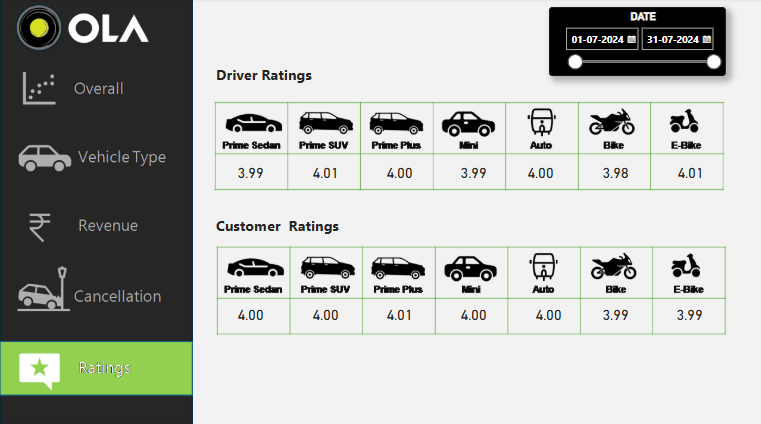

The page's visual inventory and layout, read from the dashboard file:
{"tool":"powerbi","page":{"name":"Ratings","canvas":[1280,720],"ordinal":4},"visuals":[{"type":"actionButton","box":[0,221.8,325.4,93.6],"z":0},{"type":"actionButton","box":[0,339.8,325.4,89.3],"z":1000},{"type":"actionButton","box":[0,447.8,325.4,93.6],"z":2000},{"type":"actionButton","box":[0,576,325.4,93.6],"z":3000},{"type":"actionButton","box":[0,108,325.4,90.7],"z":4000},{"type":"card","fields":{"Values":["Avg(July.Driver_Ratings)"]},"box":[364.5,268.8,112.5,47],"z":5000},{"type":"card","fields":{"Values":["Avg(July.Driver_Ratings)"]},"box":[490.5,268.8,112.5,47],"z":5001},{"type":"card","fields":{"Values":["Avg(July.Driver_Ratings)"]},"box":[614.8,268.8,112.5,47],"z":5002},{"type":"card","fields":{"Values":["Avg(July.Driver_Ratings)"]},"box":[739.1,268.8,112.5,47],"z":5003},{"type":"card","fields":{"Values":["Avg(July.Driver_Ratings)"]},"box":[851.7,268.8,112.5,47],"z":5004},{"type":"card","fields":{"Values":["Avg(July.Driver_Ratings)"]},"box":[977.6,268.8,112.5,47],"z":5005},{"type":"card","fields":{"Values":["Avg(July.Driver_Ratings)"]},"box":[1103.6,268.8,112.5,47],"z":5006},{"type":"card","fields":{"Values":["Avg(July.Customer_Rating)"]},"box":[364.5,507.3,112.5,47],"z":5007},{"type":"card","fields":{"Values":["Avg(July.Customer_Rating)"]},"box":[490.5,507.3,112.5,47],"z":5008},{"type":"card","fields":{"Values":["Avg(July.Customer_Rating)"]},"box":[614.8,507.3,112.5,47],"z":5009},{"type":"card","fields":{"Values":["Avg(July.Customer_Rating)"]},"box":[739.1,507.3,112.5,47],"z":5010},{"type":"card","fields":{"Values":["Avg(July.Customer_Rating)"]},"box":[865.1,507.3,112.5,47],"z":5011},{"type":"card","fields":{"Values":["Avg(July.Customer_Rating)"]},"box":[977.6,507.3,112.5,47],"z":5012},{"type":"card","fields":{"Values":["Avg(July.Customer_Rating)"]},"box":[1101.9,507.3,112.5,47],"z":5013},{"type":"textbox","box":[357.8,107.5,238.5,45.4],"z":5014},{"type":"textbox","box":[357.8,361.2,238.5,45.4],"z":5015},{"type":"slicer","title":"DATE","fields":{"Values":["July.Date"]},"box":[922.2,15.1,297.3,115.9],"z":5016}]}

Visuals, with their boxes on the page's 1280x720 design canvas (x1, y1, x2, y2). These are canvas units, not pixel positions in the 761x424 screenshot, which may show the page scaled, cropped or inside an application window:
actionButton: (0,222,325,315)
actionButton: (0,340,325,429)
actionButton: (0,448,325,541)
actionButton: (0,576,325,670)
actionButton: (0,108,325,199)
card - Avg(July.Driver_Ratings): (364,269,477,316)
card - Avg(July.Driver_Ratings): (490,269,603,316)
card - Avg(July.Driver_Ratings): (615,269,727,316)
card - Avg(July.Driver_Ratings): (739,269,852,316)
card - Avg(July.Driver_Ratings): (852,269,964,316)
card - Avg(July.Driver_Ratings): (978,269,1090,316)
card - Avg(July.Driver_Ratings): (1104,269,1216,316)
card - Avg(July.Customer_Rating): (364,507,477,554)
card - Avg(July.Customer_Rating): (490,507,603,554)
card - Avg(July.Customer_Rating): (615,507,727,554)
card - Avg(July.Customer_Rating): (739,507,852,554)
card - Avg(July.Customer_Rating): (865,507,978,554)
card - Avg(July.Customer_Rating): (978,507,1090,554)
card - Avg(July.Customer_Rating): (1102,507,1214,554)
textbox: (358,108,596,153)
textbox: (358,361,596,407)
"DATE" slicer: (922,15,1220,131)
